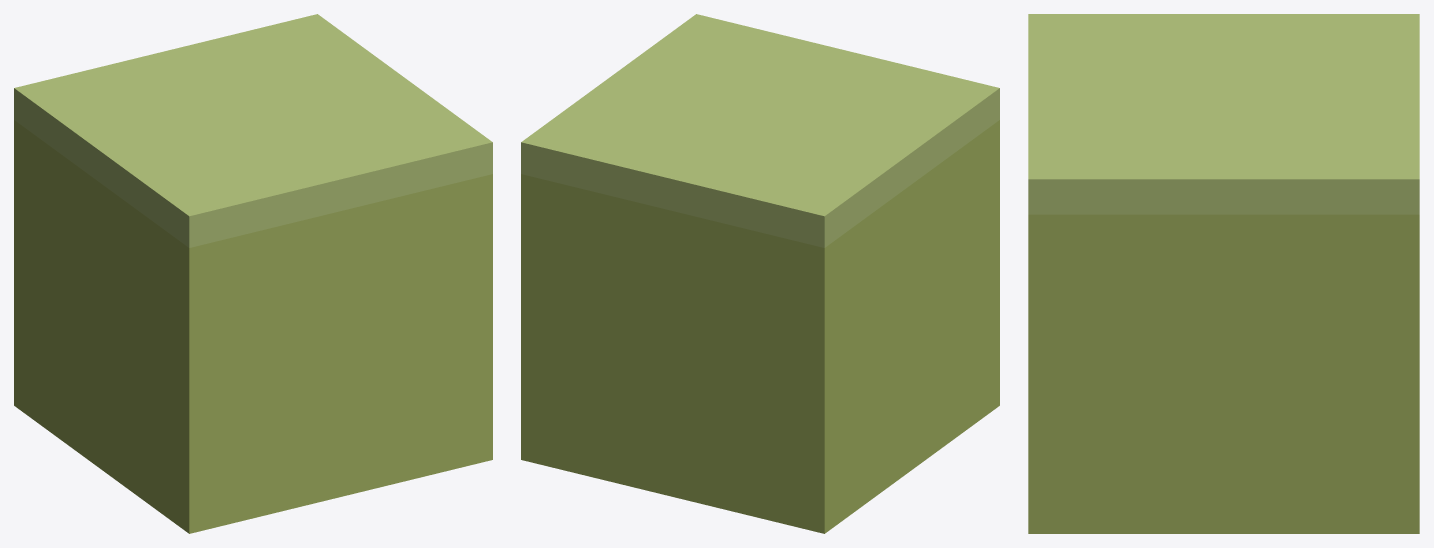
The model's file is groundTileSand.fbx.
3 renders of one model, left to right at view 1: azimuth 30°, elevation 25°; view 2: azimuth 150°, elevation 25°; view 3: azimuth 270°, elevation 25°, orthographic. The views are drawn at different scales.
Parts seen in each view (by area): view 1: Mesh_GroundTileSand; view 2: Mesh_GroundTileSand; view 3: Mesh_GroundTileSand.
Boxes of the visible parts, box(x1,y1,x2,y2) form: Mesh_GroundTileSand: box(14, 14, 492, 533); Mesh_GroundTileSand: box(521, 14, 999, 533); Mesh_GroundTileSand: box(1028, 14, 1419, 533).
Bounding box in the file's own units: 2 × 2 × 2.
